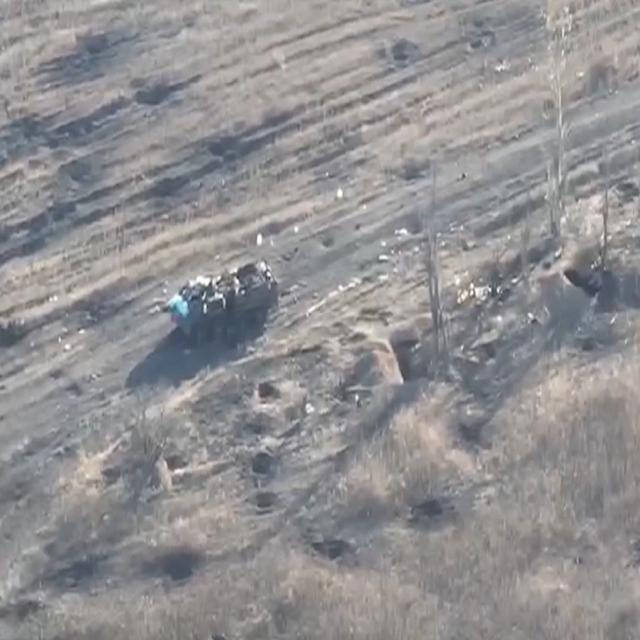APC: (166, 258, 279, 352)
